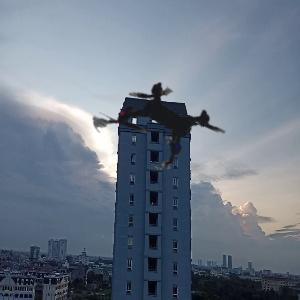drone: (65, 26, 259, 220)
